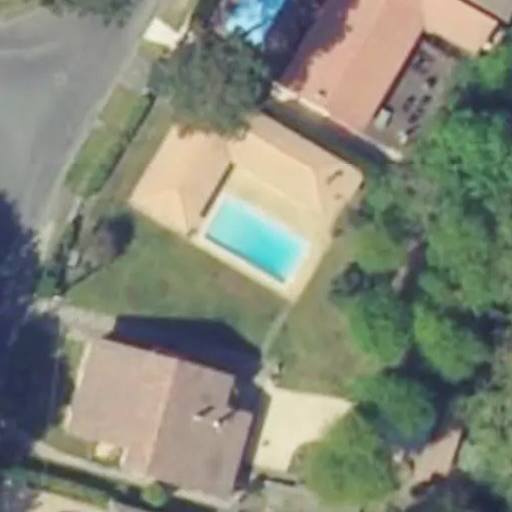pool: (202, 194, 303, 285)
